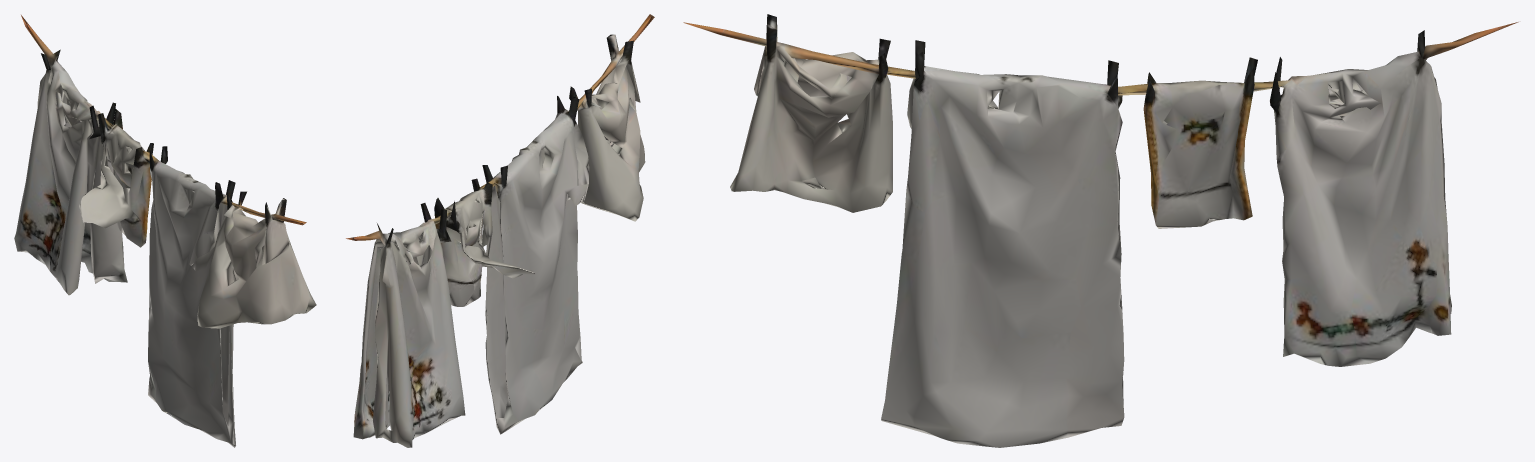
The model's file is laundry-line.glb.
3 views of the same model, side by side, from view 1: azimuth 30°, elevation 25°; view 2: azimuth 150°, elevation 25°; view 3: azimuth 270°, elevation 25° (orthographic). The views are drawn at different scales.
Visible parts, largest first — view 1: tripo_node_33291f42-029b-4fd7-8c41-367a5f0e3b7c; view 2: tripo_node_33291f42-029b-4fd7-8c41-367a5f0e3b7c; view 3: tripo_node_33291f42-029b-4fd7-8c41-367a5f0e3b7c.
Part boxes in pixels (box(x1,y1,x2,y2)): tripo_node_33291f42-029b-4fd7-8c41-367a5f0e3b7c: box(14, 15, 316, 447); tripo_node_33291f42-029b-4fd7-8c41-367a5f0e3b7c: box(346, 14, 654, 447); tripo_node_33291f42-029b-4fd7-8c41-367a5f0e3b7c: box(683, 14, 1518, 447).
Bounding box in the file's own units: 0.1737 × 0.5522 × 1.
1 material, 1 textured.
